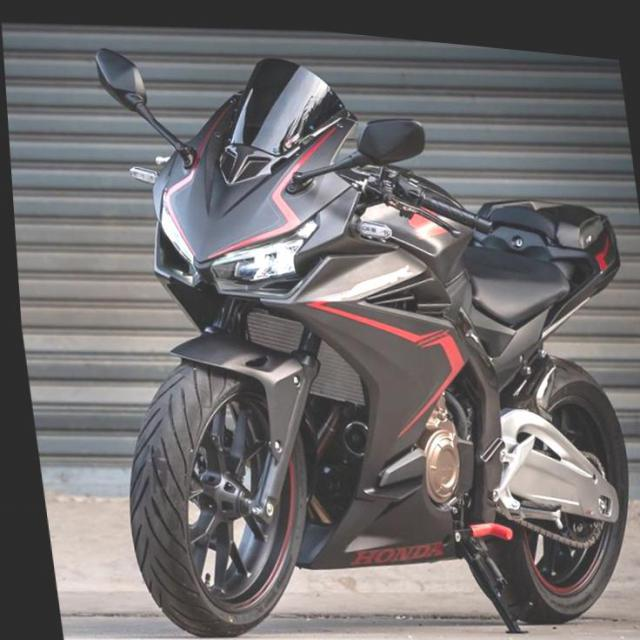CBR500R: (60, 7, 639, 639)
